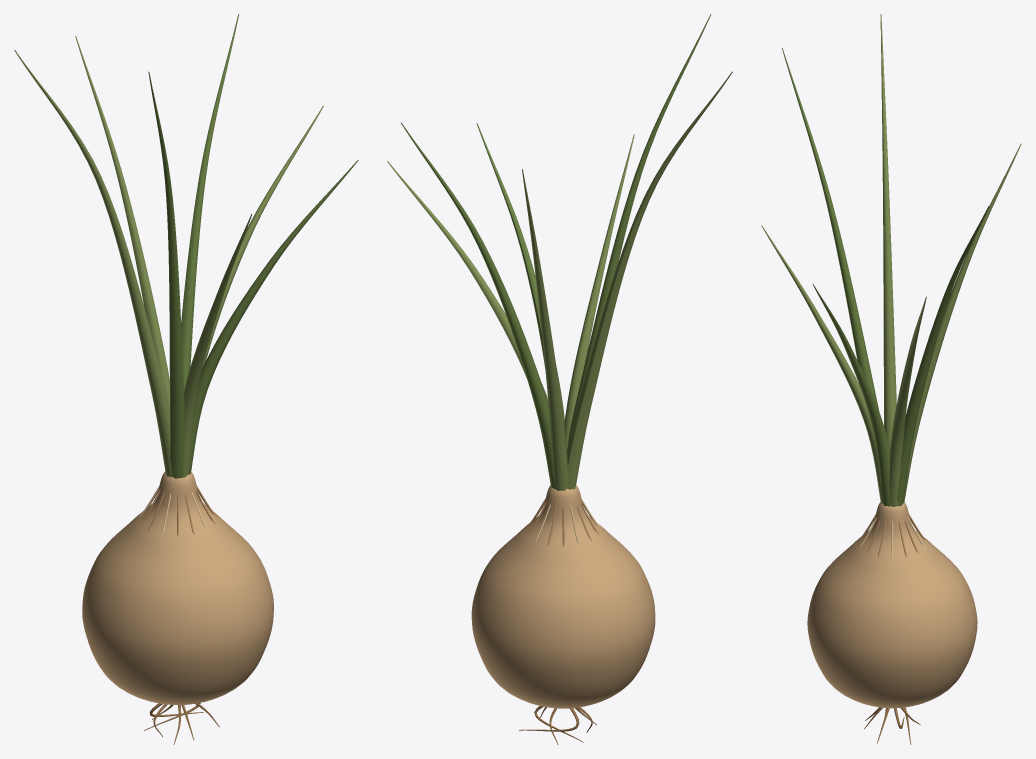
Rendered from props_p6__p6_onion_plant.glb.
3 renders of one model, left to right at view 1: azimuth 30°, elevation 25°; view 2: azimuth 150°, elevation 25°; view 3: azimuth 270°, elevation 25°, orthographic. The views are drawn at different scales.
Parts seen in each view (by area): view 1: papery_bulb, onion_leaf_2, onion_leaf_5, onion_leaf_1, onion_leaf_3, onion_leaf_4, onion_leaf_0, onion_leaf_6; view 2: papery_bulb, onion_leaf_2, onion_leaf_1, onion_leaf_4, onion_leaf_5, onion_leaf_0, onion_leaf_6, onion_leaf_3; view 3: papery_bulb, onion_leaf_2, onion_leaf_1, onion_leaf_5, onion_leaf_3, onion_leaf_6, onion_leaf_4, onion_leaf_0.
Boxes of the visible parts, x1,y1,x2,y2 form: papery_bulb: [82, 471, 273, 705]; onion_leaf_2: [14, 50, 172, 477]; onion_leaf_5: [148, 71, 184, 478]; onion_leaf_1: [181, 14, 239, 390]; onion_leaf_3: [189, 160, 358, 474]; onion_leaf_4: [75, 36, 169, 408]; onion_leaf_0: [183, 214, 252, 477]; onion_leaf_6: [202, 105, 323, 368]; papery_bulb: [471, 485, 655, 708]; onion_leaf_2: [567, 71, 732, 489]; onion_leaf_1: [401, 122, 555, 488]; onion_leaf_4: [522, 169, 568, 490]; onion_leaf_5: [568, 14, 711, 444]; onion_leaf_0: [564, 134, 634, 450]; onion_leaf_6: [387, 161, 548, 402]; onion_leaf_3: [476, 123, 564, 428]; papery_bulb: [807, 502, 977, 708]; onion_leaf_2: [880, 14, 896, 449]; onion_leaf_1: [897, 206, 989, 506]; onion_leaf_5: [782, 48, 878, 409]; onion_leaf_3: [812, 284, 890, 506]; onion_leaf_6: [889, 296, 926, 506]; onion_leaf_4: [903, 143, 1021, 502]; onion_leaf_0: [761, 225, 883, 503].
Size of the model in its own units: 0.1573 by 0.3252 by 0.1194.
